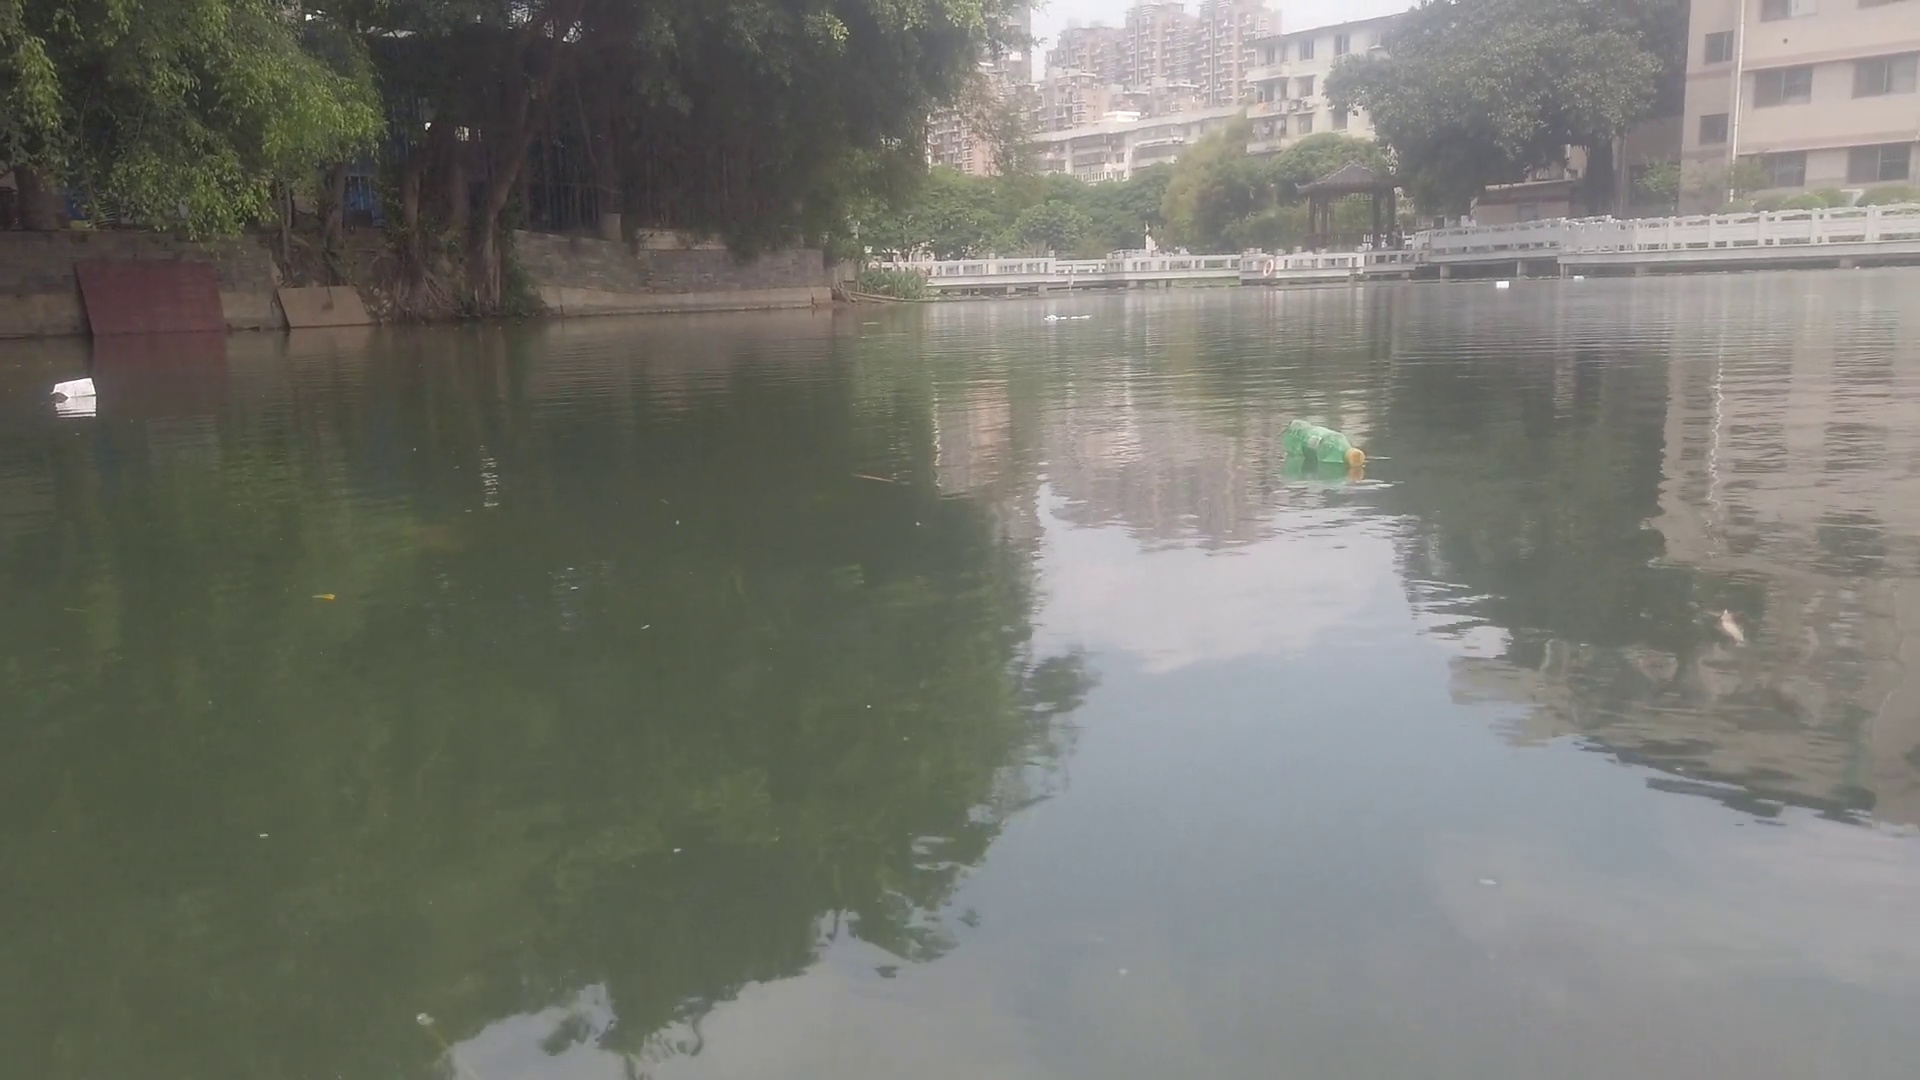bottle: (1276, 415, 1371, 465)
carton: (51, 375, 102, 401), (1491, 276, 1513, 293), (1571, 273, 1588, 282)
paper: (1042, 310, 1095, 324)
